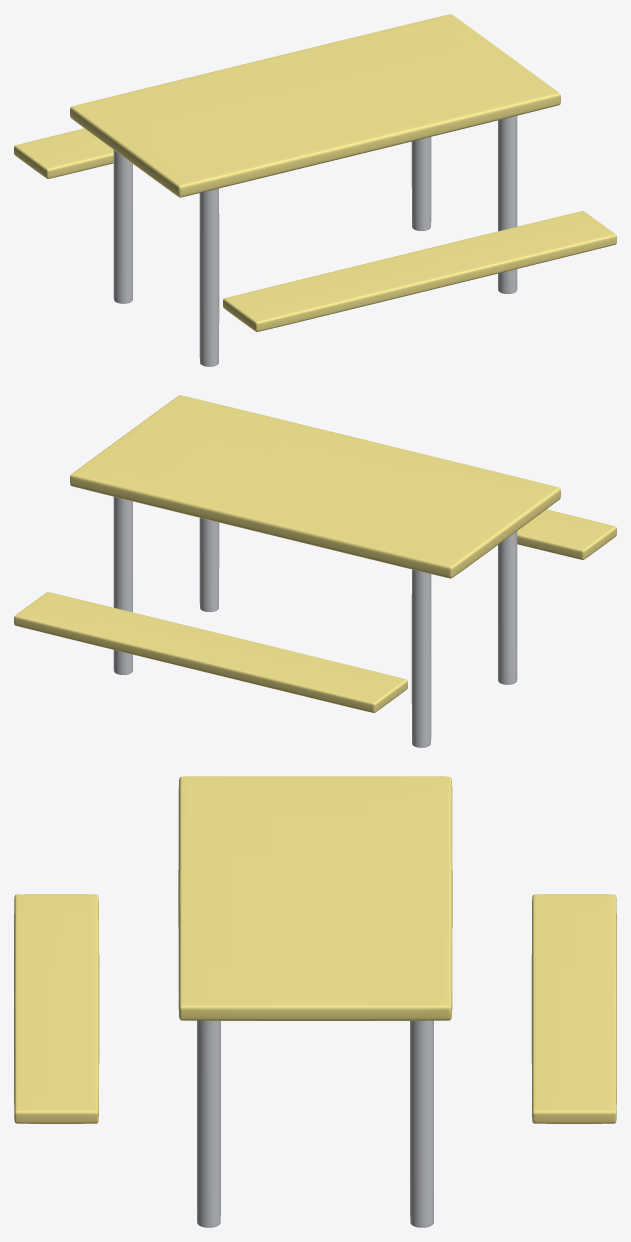
The model's file is Toy_PicnicTable_Hi.fbx.
3 renders of one model, top to bottom at view 1: azimuth 30°, elevation 25°; view 2: azimuth 150°, elevation 25°; view 3: azimuth 270°, elevation 25°, orthographic. The views are drawn at different scales.
Parts seen in each view (by area): view 1: Cube, Cube.001, Cylinder, Cube.002, Cylinder.001, Cylinder.002, Cylinder.003; view 2: Cube, Cube.002, Cylinder.001, Cube.001, Cylinder, Cylinder.003, Cylinder.002; view 3: Cube, Cube.001, Cube.002, Cylinder.002, Cylinder.003.
Part boxes in pixels (x1,y1,x2,y2): Cube: (70, 14, 560, 197); Cube.001: (223, 211, 616, 331); Cylinder: (199, 188, 219, 366); Cube.002: (14, 128, 113, 178); Cylinder.001: (113, 150, 132, 303); Cylinder.002: (498, 116, 517, 293); Cylinder.003: (411, 137, 431, 230); Cube: (70, 395, 560, 578); Cube.002: (14, 592, 407, 712); Cylinder.001: (411, 569, 431, 747); Cube.001: (517, 509, 616, 559); Cylinder: (498, 531, 517, 684); Cylinder.003: (113, 497, 132, 674); Cylinder.002: (199, 518, 219, 611); Cube: (178, 776, 452, 1020); Cube.001: (14, 894, 99, 1123); Cube.002: (531, 894, 616, 1123); Cylinder.002: (197, 1020, 220, 1227); Cylinder.003: (410, 1020, 433, 1227).
Bounding box in the file's own units: 1.8 × 0.8798 × 1.98.
